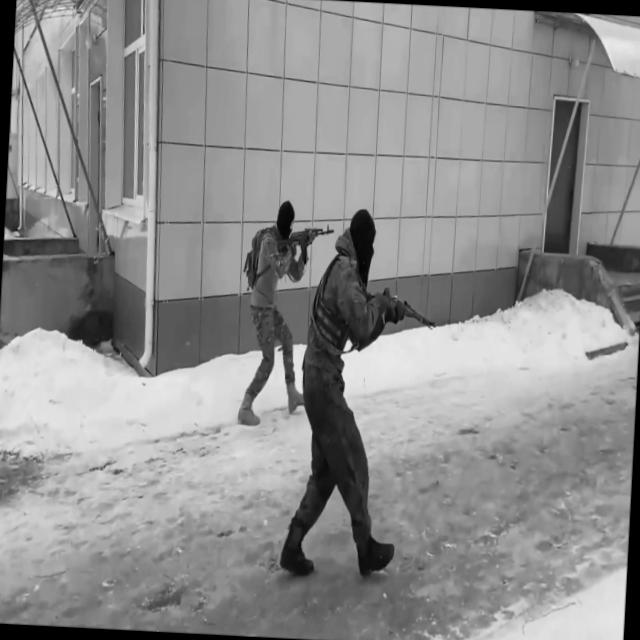gun: (362, 286, 440, 332), (277, 220, 335, 266)
person with a gun: (279, 204, 443, 584), (236, 195, 338, 431)
